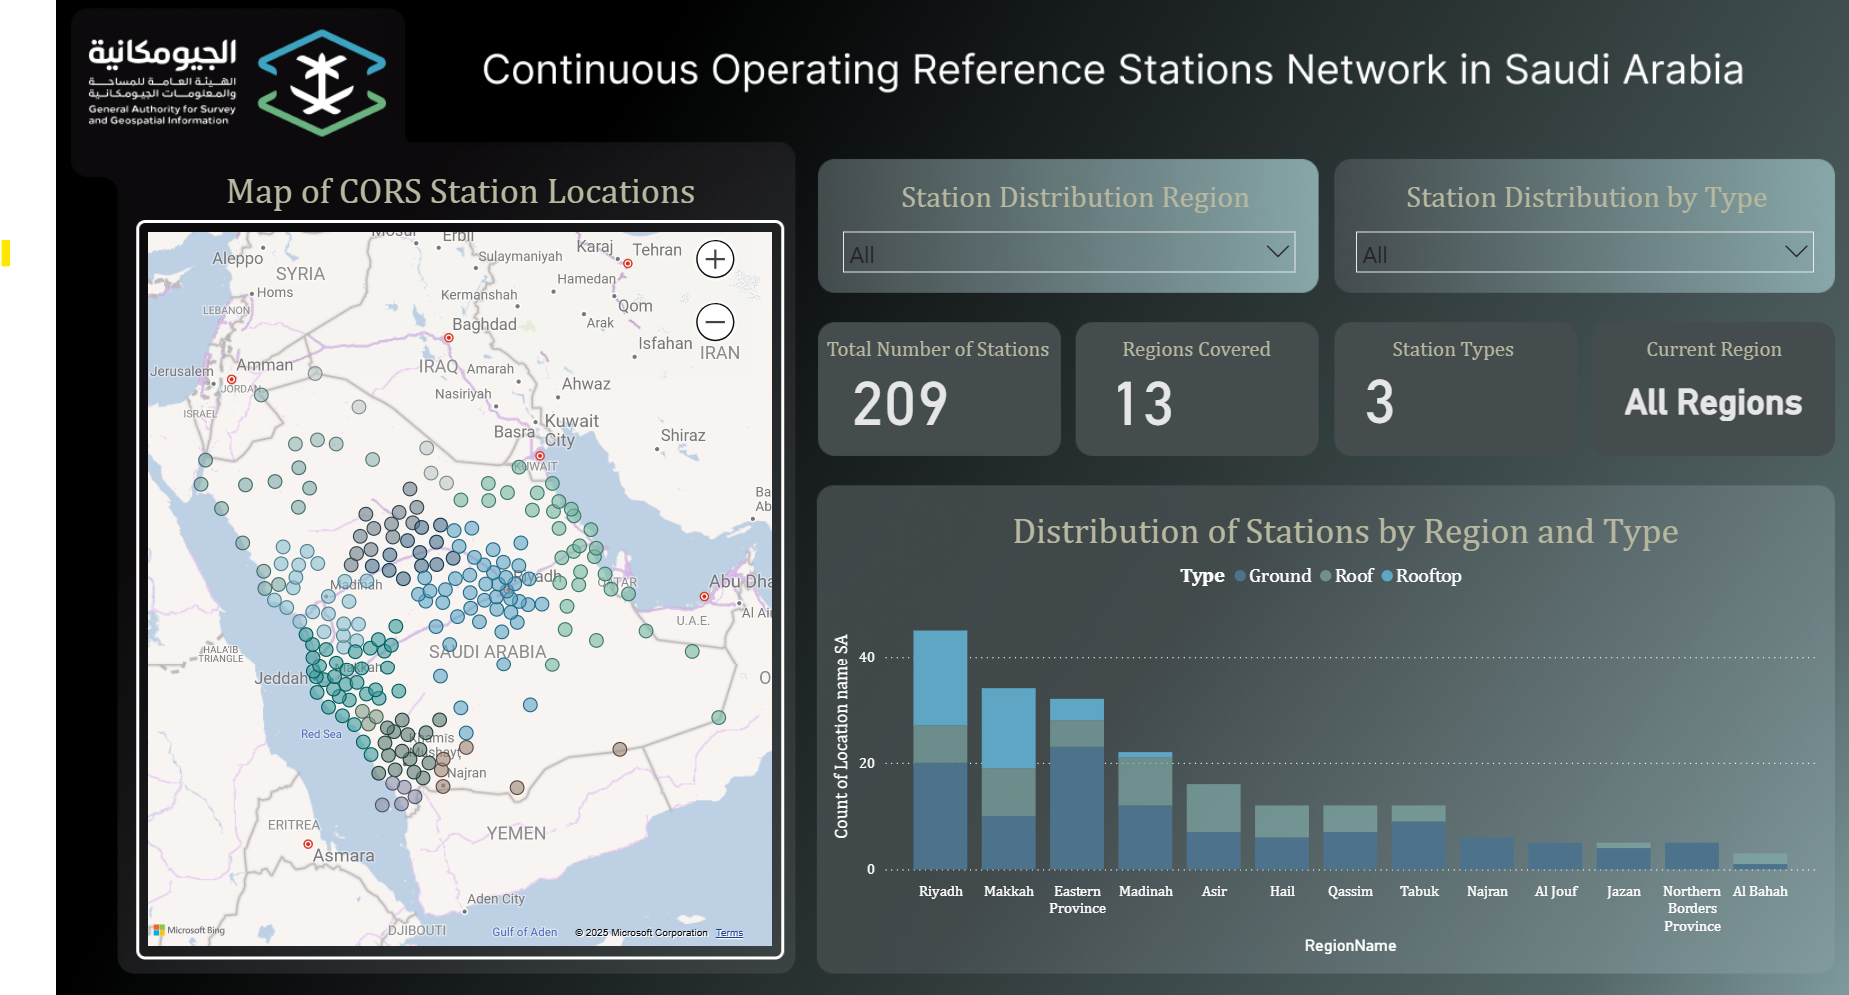

This screenshot's page, from the dashboard's own definition file:
{"tool":"powerbi","page":{"name":"Page 2","canvas":[1600,900],"ordinal":0},"visuals":[{"type":"map","fields":{"Y":["Coordinates of Continuously Operating Ref station.Latitude"],"X":["Coordinates of Continuously Operating Ref station.Longitude"],"Series":["Region.RegionName"]},"box":[74,200,576,658],"z":0},{"type":"cardVisual","title":"Total Number of Stations","fields":{"Data":["Count(Coordinates of Continuously Operating Ref station.Site ID)"]},"box":[692,298,194,122],"z":1000},{"type":"cardVisual","fields":{"Data":["Count(Region.RegionName)"]},"box":[922.5,297.5,192.5,122.5],"z":2000},{"type":"cardVisual","fields":{"Data":["Count(Coordinates of Continuously Operating Ref station.Type)"]},"box":[1148,296,194,122],"z":3000},{"type":"cardVisual","fields":{"Data":["Coordinates of Continuously Operating Ref station.ShortRegionName"]},"box":[1380,296,194,122],"z":4000},{"type":"slicer","fields":{"Values":["Coordinates of Continuously Operating Ref station.Type"]},"box":[1147.5,200,427.5,56.2],"z":5000},{"type":"textbox","box":[1179.4,158.4,361.2,49.5],"z":6000},{"type":"textbox","box":[726.7,158.3,360,50],"z":7000},{"type":"slicer","fields":{"Values":["Region.RegionName"]},"box":[692.5,200,422.5,56.2],"z":8000},{"type":"columnChart","fields":{"Category":["Region.RegionName"],"Y":["CountNonNull(Coordinates of Continuously Operating Ref station.Location name SA)"],"Series":["Coordinates of Continuously Operating Ref station.Type"]},"box":[687.3,493.3,883.6,364.7],"z":9000},{"type":"textbox","box":[840,452,618,50],"z":10000},{"type":"textbox","box":[128.8,150,468.8,50],"z":11000},{"type":"textbox","box":[670,298.3,233.3,50],"z":12000},{"type":"textbox","box":[900,298.3,233.3,50],"z":13000},{"type":"textbox","box":[1128.3,298.3,233.3,50],"z":14000},{"type":"textbox","box":[1360,298.3,233.3,50],"z":15000}]}

Visuals, with their boxes on the page's 1600x900 design canvas (x1, y1, x2, y2). These are canvas units, not pixel positions in the 1849x995 screenshot, which may show the page scaled, cropped or inside an application window:
map - Coordinates of Continuously Operating Ref station.Latitude x Coordinates of Continuously Operating Ref station.Longitude: Rect(74, 200, 650, 858)
"Total Number of Stations" cardVisual: Rect(692, 298, 886, 420)
cardVisual - Count(Region.RegionName): Rect(922, 298, 1115, 420)
cardVisual - Count(Coordinates of Continuously Operating Ref station.Type): Rect(1148, 296, 1342, 418)
cardVisual - Coordinates of Continuously Operating Ref station.ShortRegionName: Rect(1380, 296, 1574, 418)
slicer - Coordinates of Continuously Operating Ref station.Type: Rect(1148, 200, 1575, 256)
textbox: Rect(1179, 158, 1541, 208)
textbox: Rect(727, 158, 1087, 208)
slicer - Region.RegionName: Rect(692, 200, 1115, 256)
columnChart - Region.RegionName x CountNonNull(Coordinates of Continuously Operating Ref station.Location name SA): Rect(687, 493, 1571, 858)
textbox: Rect(840, 452, 1458, 502)
textbox: Rect(129, 150, 598, 200)
textbox: Rect(670, 298, 903, 348)
textbox: Rect(900, 298, 1133, 348)
textbox: Rect(1128, 298, 1362, 348)
textbox: Rect(1360, 298, 1593, 348)
